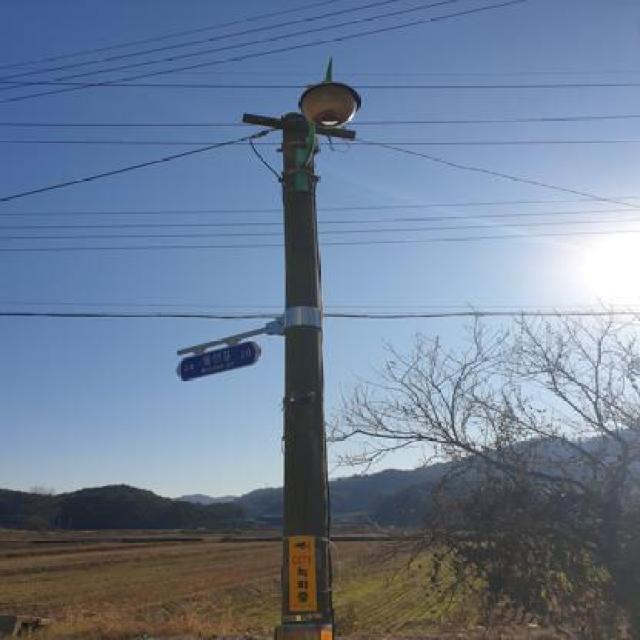pole: (266, 74, 346, 640)
